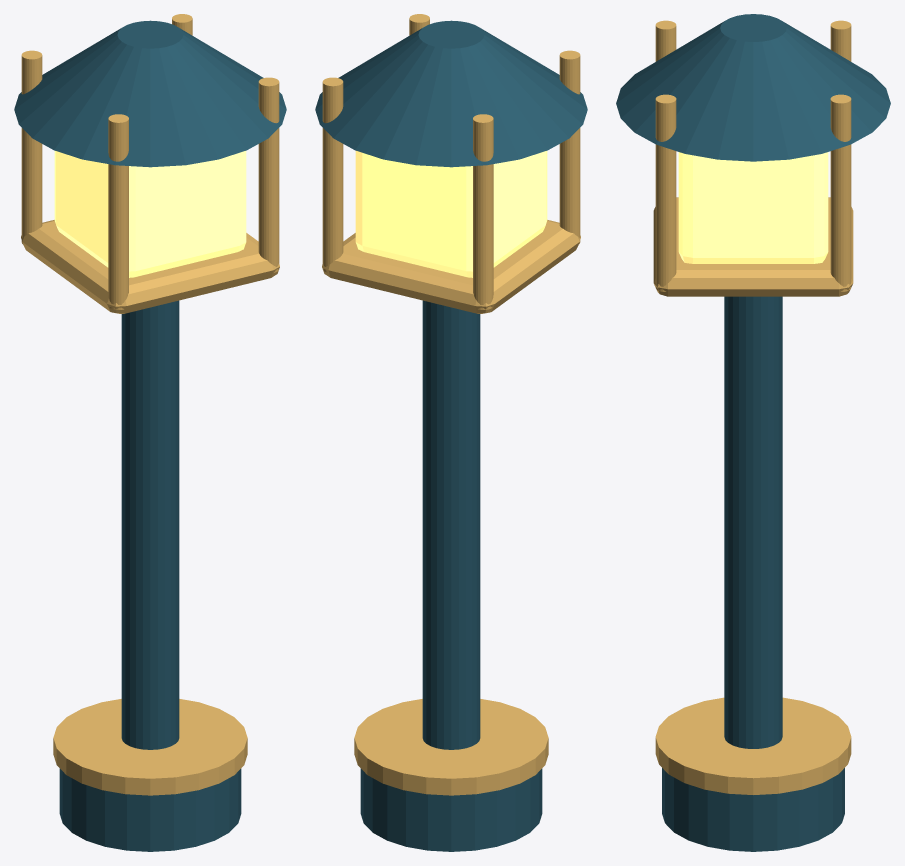
Rendered from lumo_lantern.glb.
3 renders of one model, left to right at view 1: azimuth 30°, elevation 25°; view 2: azimuth 150°, elevation 25°; view 3: azimuth 270°, elevation 25°, orthographic.
Visible parts, largest first — view 1: lumo_lantern; view 2: lumo_lantern; view 3: lumo_lantern.
Part boxes in pixels (<box>): lumo_lantern: <box>14,14,286,851</box>; lumo_lantern: <box>315,14,587,851</box>; lumo_lantern: <box>616,14,890,851</box>.
Size of the model in its own units: 0.66 by 2.08 by 0.66.
